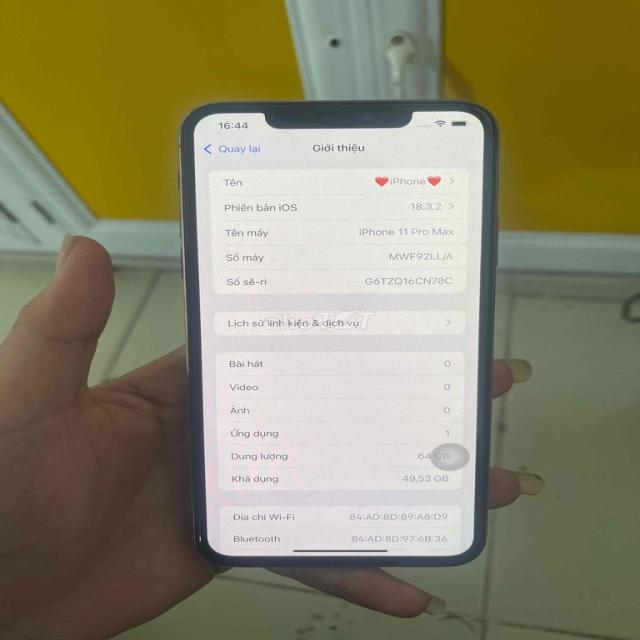gen_11: (164, 92, 514, 576)
